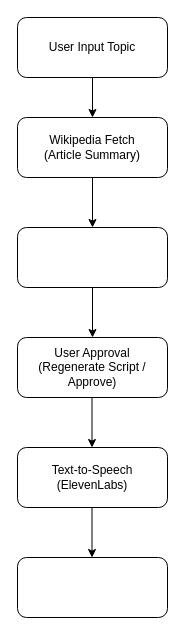
The diagram is 185 pixels wide and 635 high, and some of its shapes have lost their labels. The shapes that lost their labels are listed below. From the top down, each one's centre as x and y in pixels, then its label:
At [92,257]: "LLM Script Generator (Hinglish RJ)".
At [92,587]: "Final MP3 Output (Radio AI Show)".
